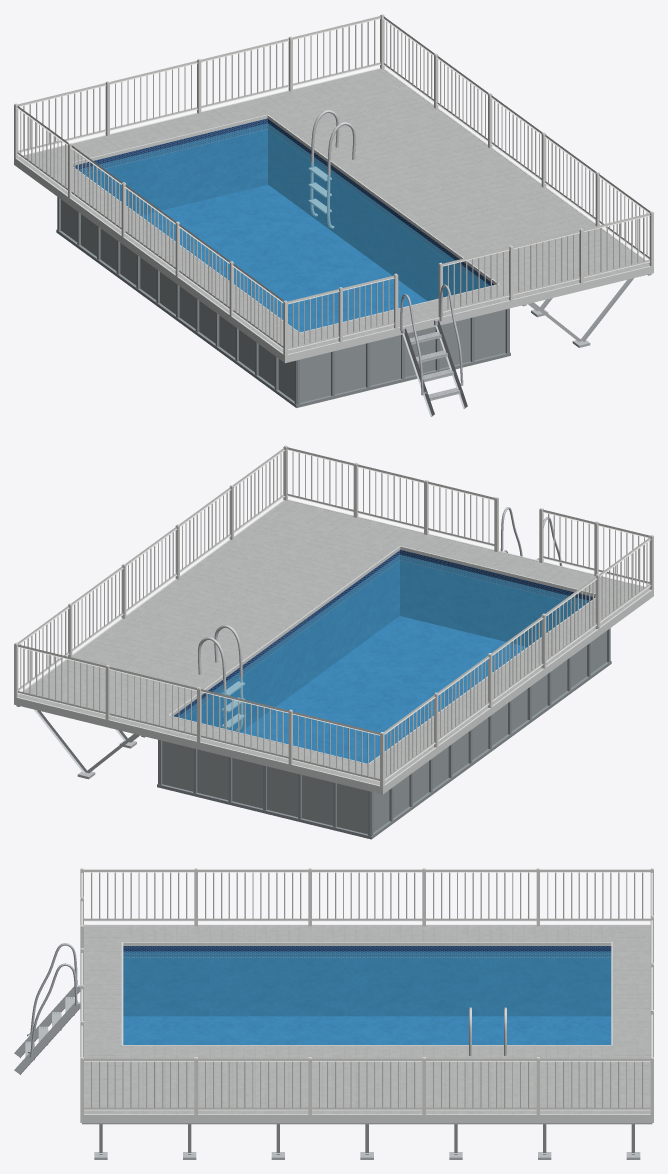
The model's file is kayak-pool-12x24-gray-side-ag-fence.2fe1f358f2.glb.
3 views of the same model, one above another, from view 1: azimuth 30°, elevation 25°; view 2: azimuth 150°, elevation 25°; view 3: azimuth 270°, elevation 25° (orthographic). The views are drawn at different scales.
Visible parts, largest first — view 1: deck, water, fence, liner_wall, liner_floor, wall, fascia, upright, ladder, steel, stud; view 2: deck, water, fence, liner_wall, liner_floor, wall, fascia, upright, steel, stud; view 3: deck, water, liner_wall, fence, liner_floor, fascia, stud, ladder.
Boxes of the visible parts, box(x1,y1,x2,y2) form: deck: box(17, 69, 649, 353); water: box(79, 123, 489, 331); fence: box(14, 14, 653, 355); liner_wall: box(73, 118, 494, 300); liner_floor: box(141, 185, 426, 332); wall: box(61, 199, 505, 402); fascia: box(14, 68, 653, 363); upright: box(56, 197, 510, 407); ladder: box(400, 284, 467, 416); steel: box(308, 110, 355, 228); stud: box(522, 274, 651, 347); deck: box(18, 500, 650, 785); water: box(179, 554, 588, 763); fence: box(14, 445, 653, 786); liner_wall: box(173, 550, 594, 732); liner_floor: box(241, 616, 526, 763); wall: box(162, 631, 606, 834); fascia: box(14, 499, 653, 794); upright: box(157, 628, 611, 839); steel: box(198, 625, 245, 731); stud: box(16, 705, 145, 779); deck: box(84, 925, 650, 1114); water: box(123, 951, 611, 1044); liner_wall: box(123, 946, 611, 1016); fence: box(80, 868, 653, 1114); liner_floor: box(123, 1016, 611, 1044); fascia: box(80, 924, 653, 1122); stud: box(82, 1123, 652, 1159); ladder: box(14, 943, 80, 1074).
Size of the model in its own units: 6.71 by 2.15 by 9.52.
11 materials, 3 textured.
